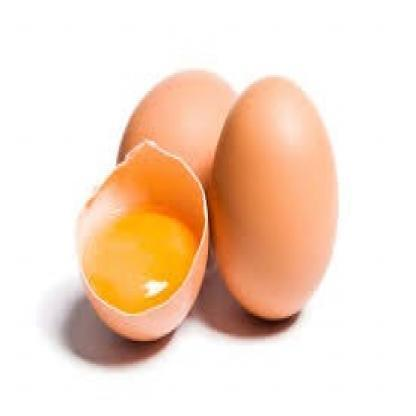egg: (208, 73, 339, 320), (74, 136, 212, 342), (118, 64, 244, 218)
